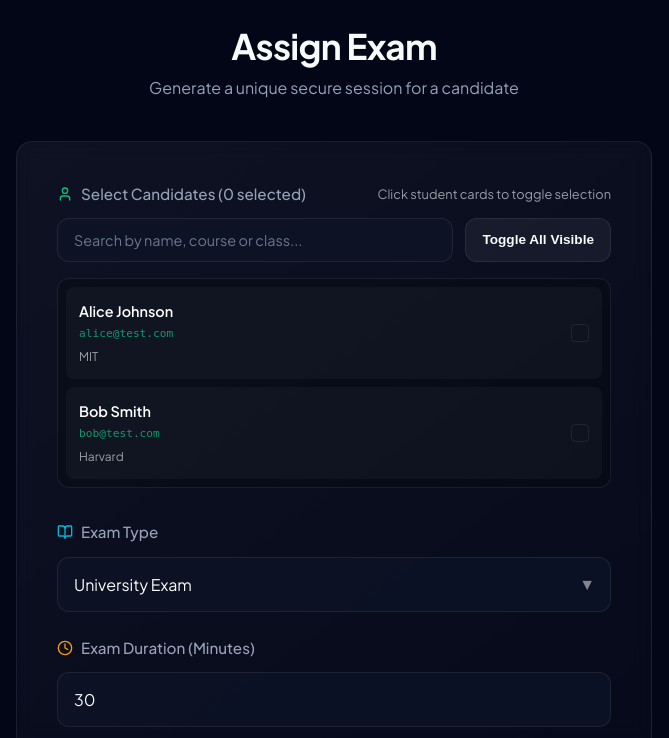
Test case: AssignExamPage › allows selecting students and paper and assigning exam
// Click student card to select
Click the text "Alice Johnson" at (126, 311), box [79,302,173,320]
(page scrolled)
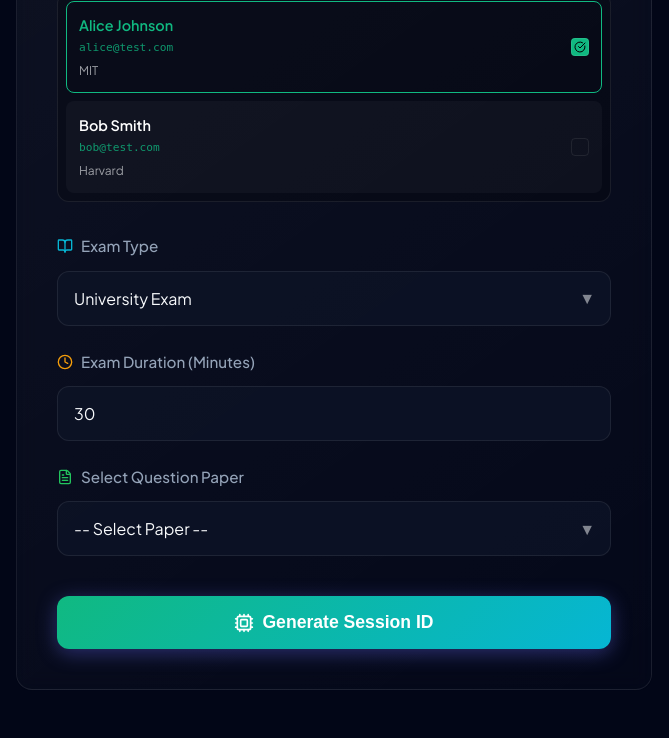
Select "Data Structures Final (CS)" in the dropdown below "Select Question Paper" at (334, 529), box [57,501,611,556]
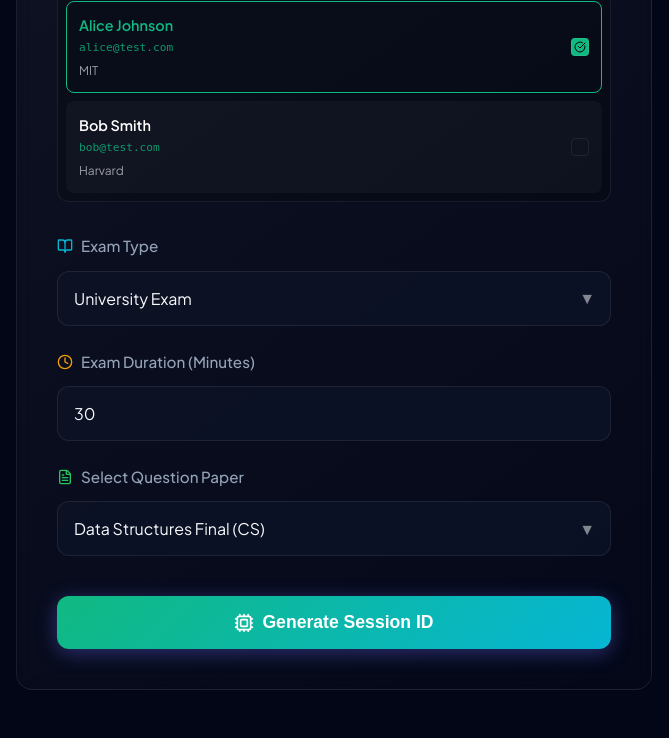
// Submit form
Click the button "Generate Session ID" at (334, 623), box [57,596,611,649]
(page scrolled)
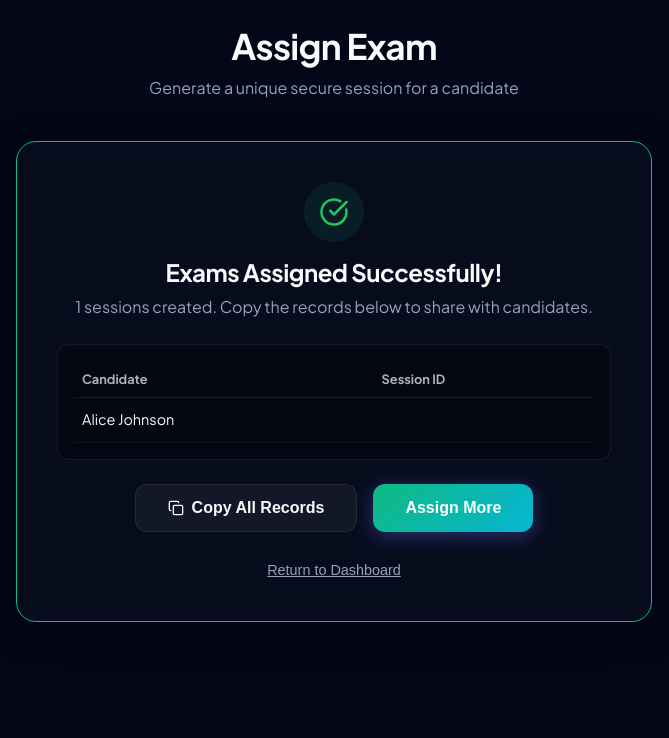
Check: the heading "Exams Assigned Successfully!" is shown, box [166,257,502,287]
